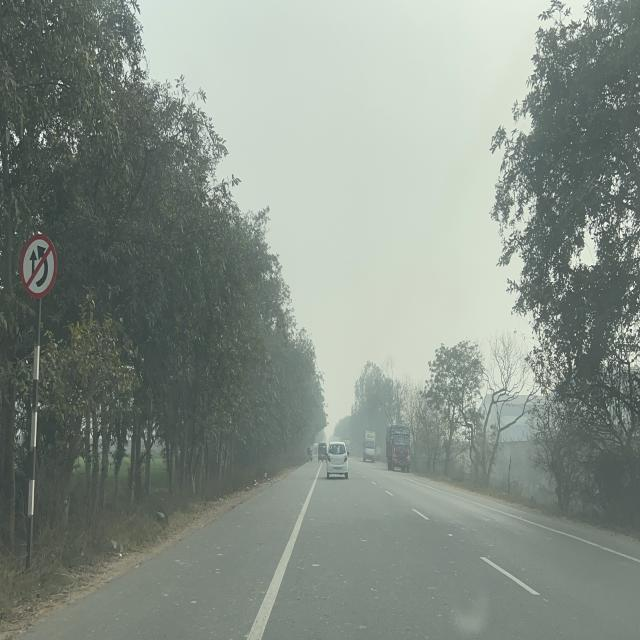OVERTAKING_PROHIBITED: (19, 233, 58, 300)
